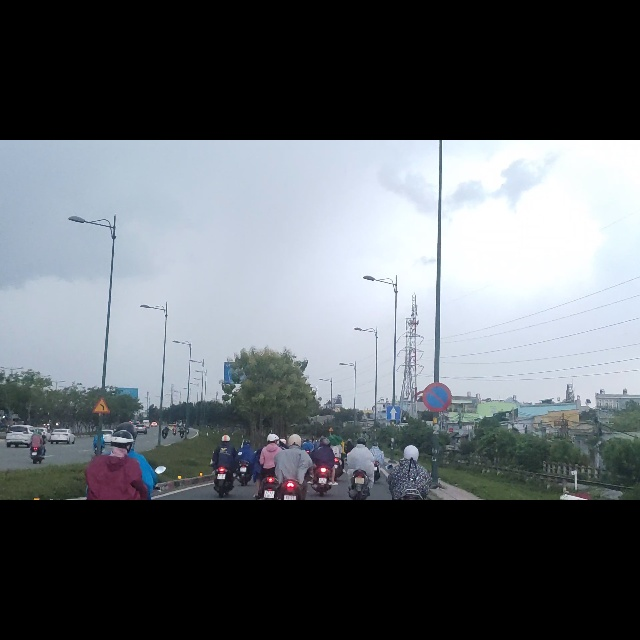bien_chi_dan: (421, 430, 452, 482), (92, 457, 110, 486), (386, 472, 400, 498)
